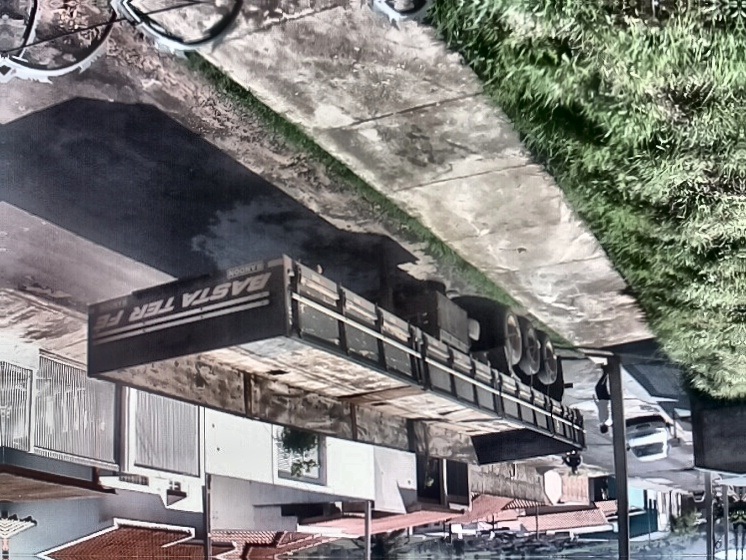person: (588, 363, 614, 436), (560, 452, 585, 475)
